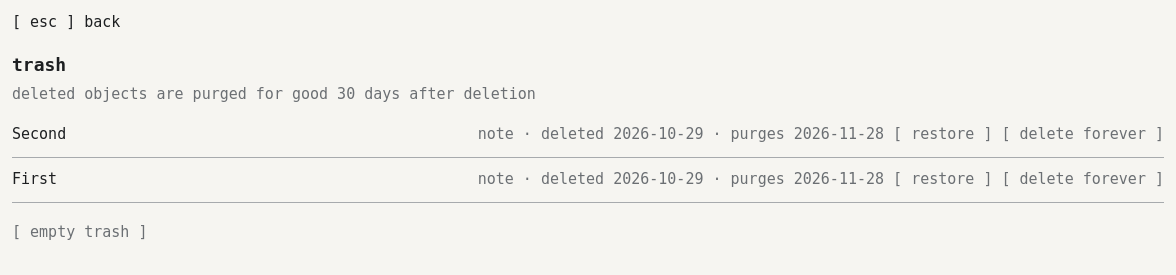
Test: trash › empty trash asks first, then DELETEs the trash
Expected: the text "Second" is shown, [12, 125, 66, 143]
Click the button "[ empty trash ]". click: (80, 232)
box: [12, 210, 148, 254]
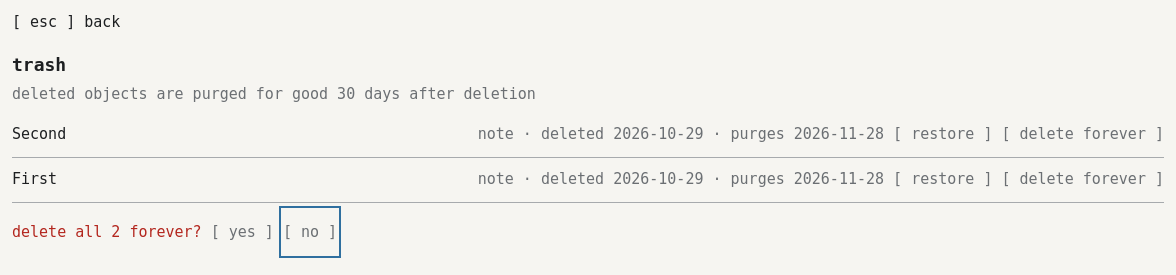
Expected: the text "delete all 2 forever?" is shown, [12, 222, 202, 243]
Click the button "[ yes ]". click: (242, 232)
box: [211, 210, 274, 254]
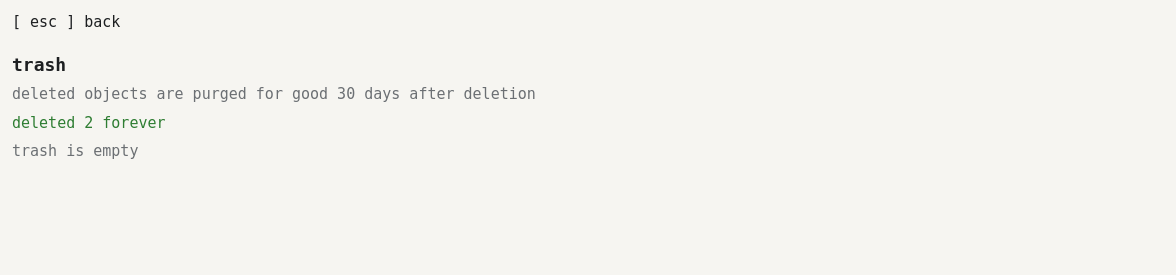
Expected: the text "deleted 2 forever" is shown, [12, 114, 166, 132]
Expected: the text "trash is empty" is shown, [12, 142, 138, 160]
